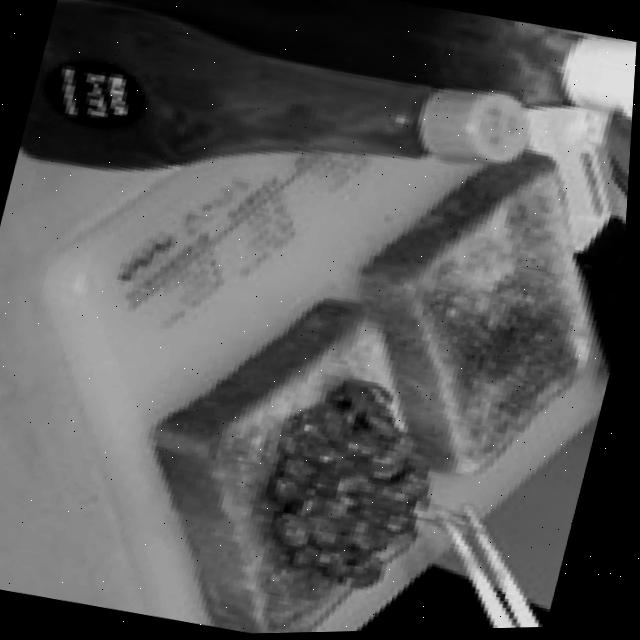面包点心: (111, 98, 635, 638)
